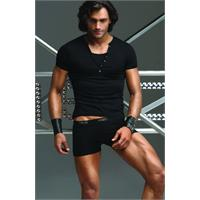mutande: (72, 117, 124, 155)
